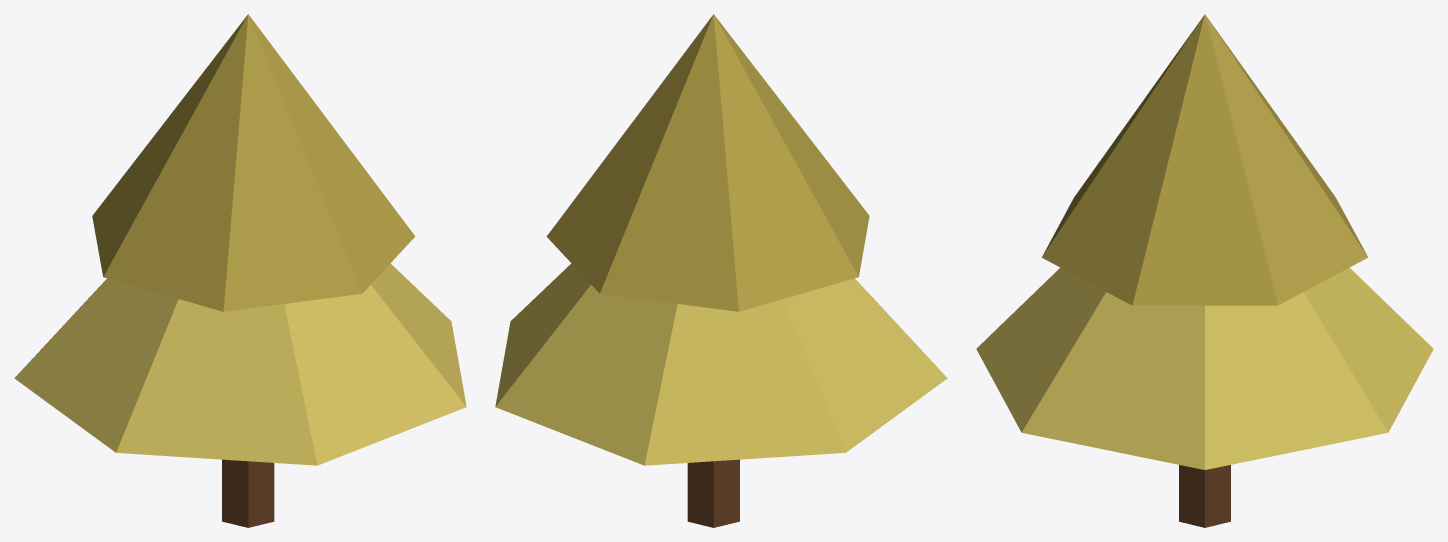
File: SM_PineC_Y.obj
3 views of the same model, side by side, from view 1: azimuth 30°, elevation 25°; view 2: azimuth 150°, elevation 25°; view 3: azimuth 270°, elevation 25° (orthographic).
Visible parts, largest first — view 1: SM_PineC_Y; view 2: SM_PineC_Y; view 3: SM_PineC_Y.
Boxes of the visible parts, <box> form: SM_PineC_Y: <box>14,14,466,527</box>; SM_PineC_Y: <box>495,14,947,527</box>; SM_PineC_Y: <box>976,14,1433,527</box>.
Bounding box in the file's own units: 5.32 × 6.6 × 5.46.
1 material, 1 textured.
